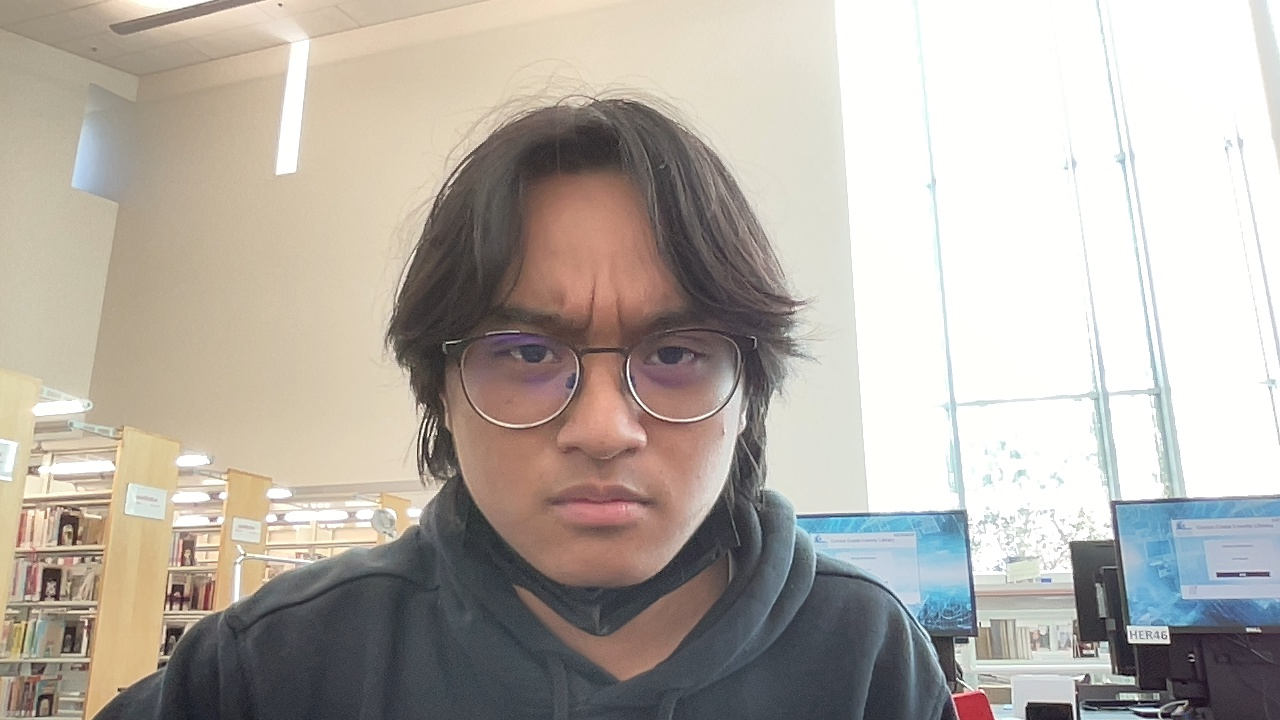anger: (393, 94, 798, 591)
